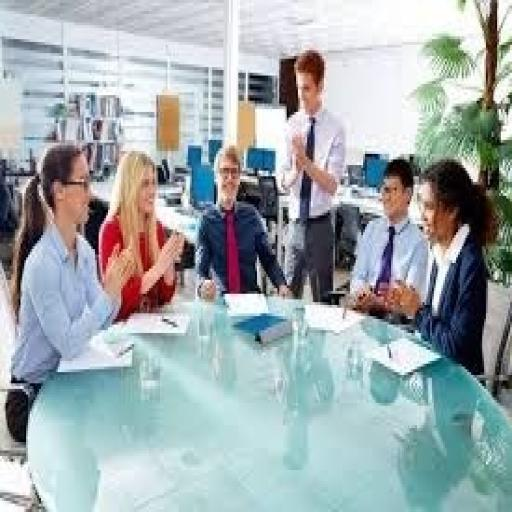clapping: (0, 86, 145, 512), (276, 150, 439, 402), (394, 116, 503, 465), (258, 13, 337, 367), (192, 143, 294, 302), (97, 145, 186, 319)
